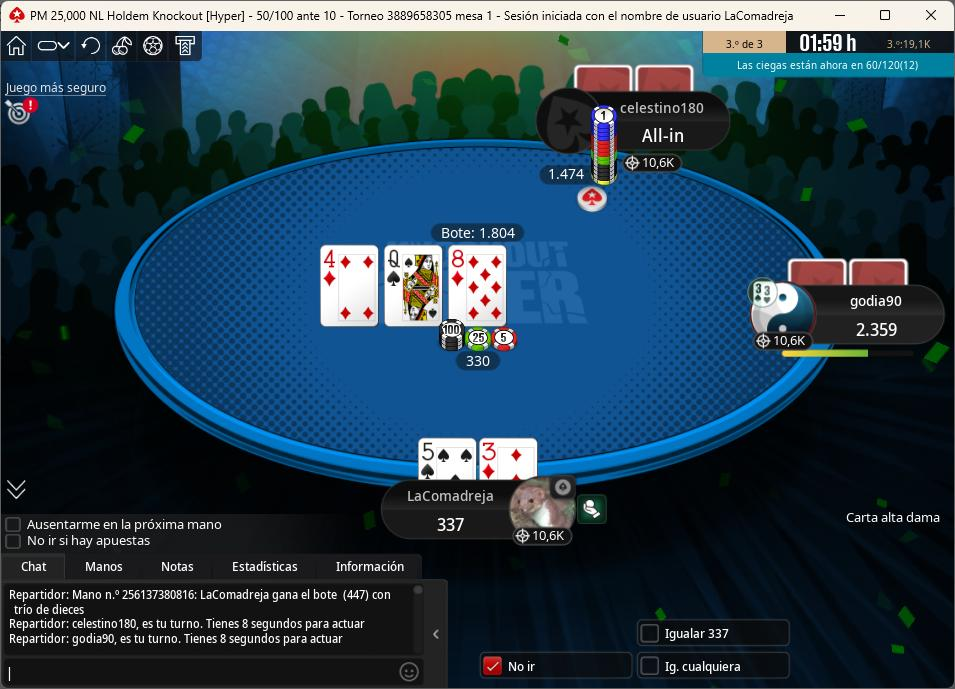Dealer: (575, 180, 613, 221)
HiddenCards: (787, 258, 913, 286), (575, 67, 700, 95)
Player: (748, 283, 951, 352), (541, 90, 732, 157)
PlayerChips: (849, 322, 906, 342)
Pot: (429, 223, 527, 244)
PreButtonCall: (635, 616, 793, 647)
PreButtonCallAny: (638, 651, 799, 683)
PreButtonFold: (479, 649, 637, 682)
PrincipalCards: (412, 436, 543, 484)
PrincipalCards1: (416, 438, 479, 482)
PrincipalCards2: (479, 435, 539, 484)
PrincipalPlayer: (385, 476, 591, 552)
PrincipalPlayerChips: (428, 518, 474, 537)
ShowedCards: (313, 241, 515, 331)
ShowedCards1: (317, 243, 378, 329)
ShowedCards2: (383, 243, 444, 328)
ShowedCards3: (447, 244, 509, 330)
SmallBigBlind: (248, 3, 348, 29)
TablePot: (427, 322, 529, 380)
